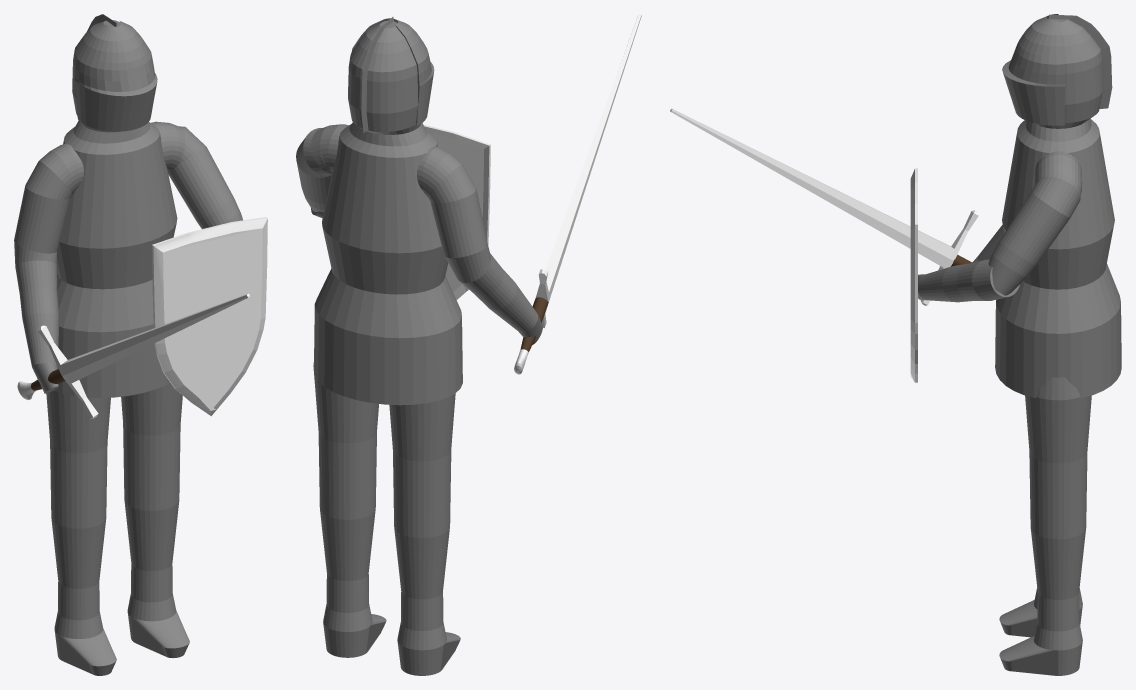
The model's file is Рыцарь_0.fbx.
3 views of the same model, side by side, from view 1: azimuth 30°, elevation 25°; view 2: azimuth 150°, elevation 25°; view 3: azimuth 270°, elevation 25° (orthographic).
Visible parts, largest first — view 1: Цилиндр.059, Куб.015, Цилиндр.050, Цилиндр.051, Цилиндр.004, Цилиндр.008, Цилиндр.056, Цилиндр.054, Цилиндр.055, Цилиндр.052, Цилиндр.057, Цилиндр.058; view 2: Цилиндр.059, Цилиндр.050, Цилиндр.008, Цилиндр.051, Цилиндр.004, Цилиндр.054, Цилиндр.056, Цилиндр.055, Куб.015, Цилиндр.052, Цилиндр.057, Цилиндр.058; view 3: Цилиндр.059, Цилиндр.008, Цилиндр.004, Цилиндр.052, Цилиндр.056, Цилиндр.053, Куб.015, Цилиндр.051, Цилиндр.058.
Part boxes in pixels (bbox=[...]): Цилиндр.059: bbox=[54, 14, 177, 397]; Куб.015: bbox=[152, 217, 267, 416]; Цилиндр.050: bbox=[46, 390, 110, 528]; Цилиндр.051: bbox=[51, 518, 116, 675]; Цилиндр.004: bbox=[124, 501, 189, 657]; Цилиндр.008: bbox=[121, 383, 182, 510]; Цилиндр.056: bbox=[17, 293, 250, 418]; Цилиндр.054: bbox=[14, 161, 72, 266]; Цилиндр.055: bbox=[15, 260, 59, 393]; Цилиндр.052: bbox=[168, 126, 242, 228]; Цилиндр.057: bbox=[39, 144, 83, 193]; Цилиндр.058: bbox=[151, 121, 185, 171]; Цилиндр.059: bbox=[314, 17, 462, 405]; Цилиндр.050: bbox=[389, 393, 455, 537]; Цилиндр.008: bbox=[313, 362, 378, 519]; Цилиндр.051: bbox=[394, 528, 460, 675]; Цилиндр.004: bbox=[320, 510, 386, 657]; Цилиндр.054: bbox=[428, 164, 490, 282]; Цилиндр.056: bbox=[514, 14, 641, 374]; Цилиндр.055: bbox=[461, 253, 542, 344]; Куб.015: bbox=[423, 124, 490, 299]; Цилиндр.052: bbox=[296, 128, 331, 212]; Цилиндр.057: bbox=[417, 146, 462, 197]; Цилиндр.058: bbox=[310, 124, 348, 174]; Цилиндр.059: bbox=[995, 14, 1121, 397]; Цилиндр.008: bbox=[1025, 377, 1091, 539]; Цилиндр.004: bbox=[999, 528, 1085, 675]; Цилиндр.052: bbox=[988, 174, 1082, 295]; Цилиндр.056: bbox=[670, 108, 978, 305]; Цилиндр.053: bbox=[918, 259, 1019, 302]; Куб.015: bbox=[910, 168, 917, 382]; Цилиндр.051: bbox=[999, 588, 1082, 637]; Цилиндр.058: bbox=[1034, 151, 1081, 191].
Bounding box in the file's own units: 42.04 × 114 × 73.79.
